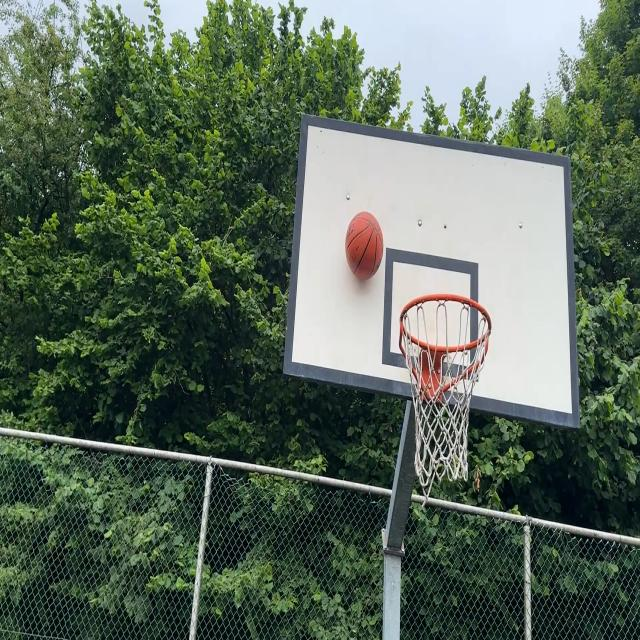rebound_hit: (344, 212, 384, 287)
